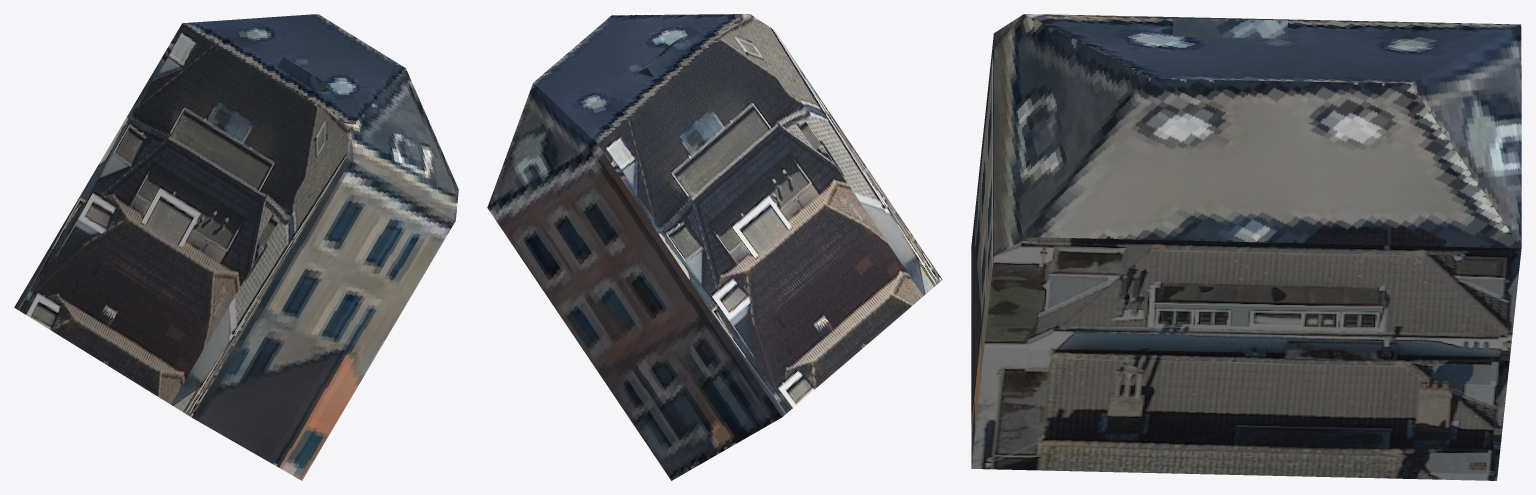
3 views of the same model, side by side, from view 1: azimuth 30°, elevation 25°; view 2: azimuth 150°, elevation 25°; view 3: azimuth 270°, elevation 25° (orthographic). The views are drawn at different scales.
Parts seen in each view (by area): view 1: BAG_0599100000688750 (×4); view 2: BAG_0599100000688750 (×5); view 3: BAG_0599100000688750 (×5).
Part boxes in pixels (<box>): BAG_0599100000688750 (×4): <box>14,14,458,480</box>; BAG_0599100000688750 (×5): <box>487,14,942,480</box>; BAG_0599100000688750 (×5): <box>971,14,1521,480</box>.
Bounding box in the file's own units: 13.31 × 14.85 × 13.88.
Materials: 1 (1 with a texture image).
